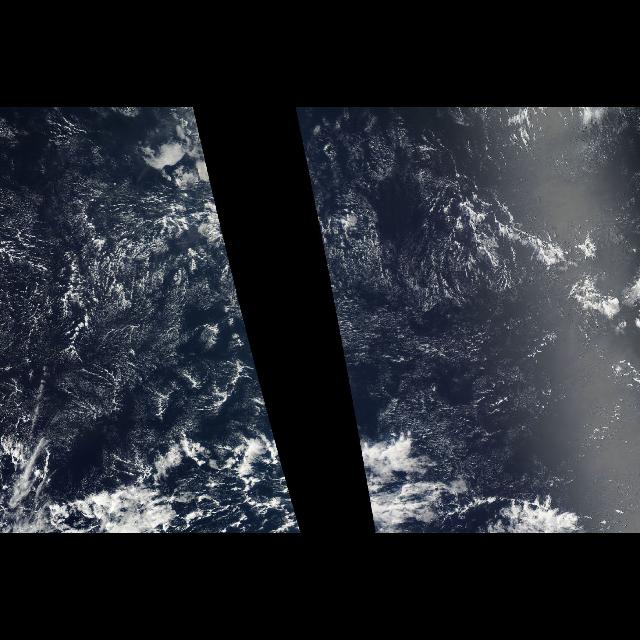Fish: (502, 196, 636, 326)
Sugar: (317, 201, 639, 443), (4, 186, 270, 459)
